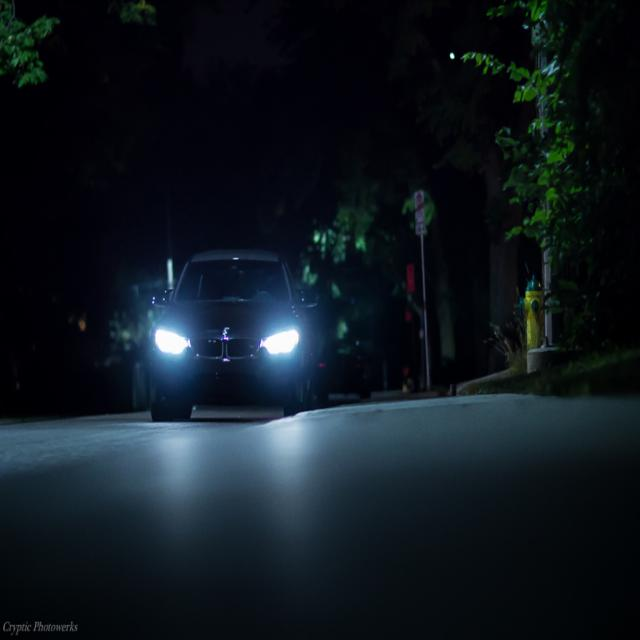car: (144, 239, 299, 420)
